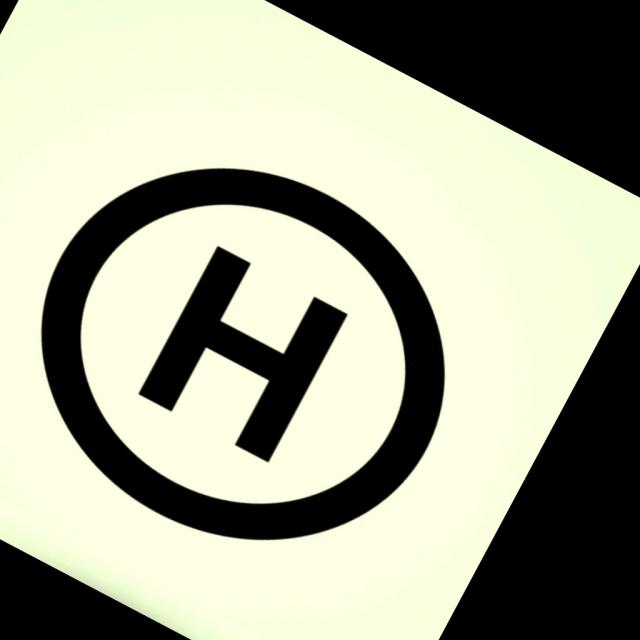helipad: (32, 162, 450, 546)
